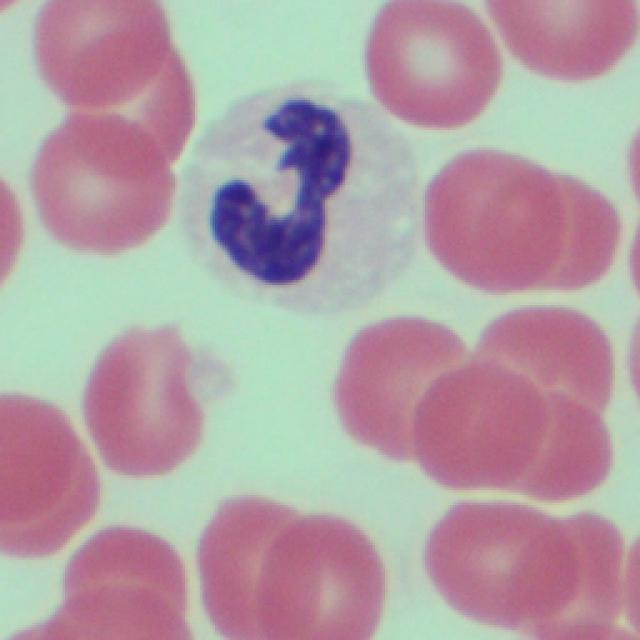RBC: (420, 291, 615, 506), (30, 0, 195, 252), (415, 139, 609, 300), (190, 495, 384, 640), (26, 112, 166, 264), (78, 320, 202, 487), (332, 307, 472, 454), (421, 511, 583, 626), (359, 2, 498, 136), (56, 517, 187, 639), (0, 379, 85, 565), (484, 0, 637, 82)
WBC: (207, 72, 347, 303)
